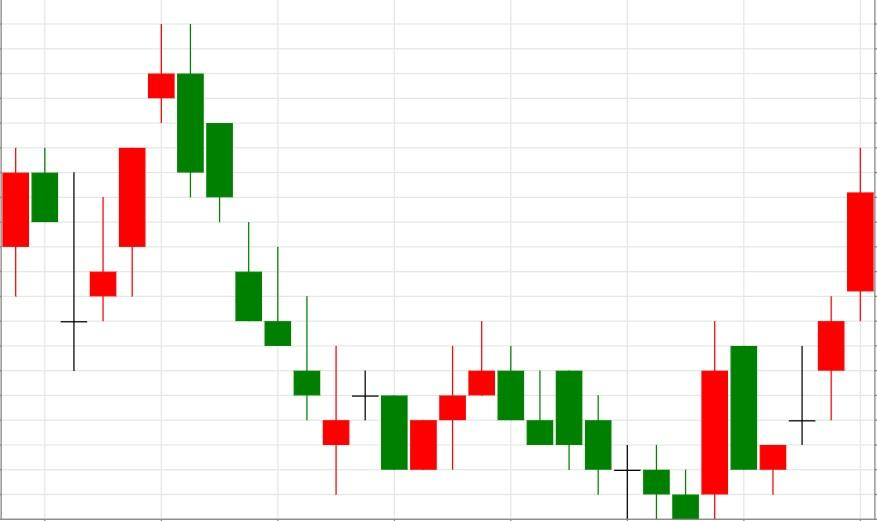bearish_engulfing_fall: (60, 23, 205, 372)
three_white_soldiers_rise: (146, 22, 496, 495)
